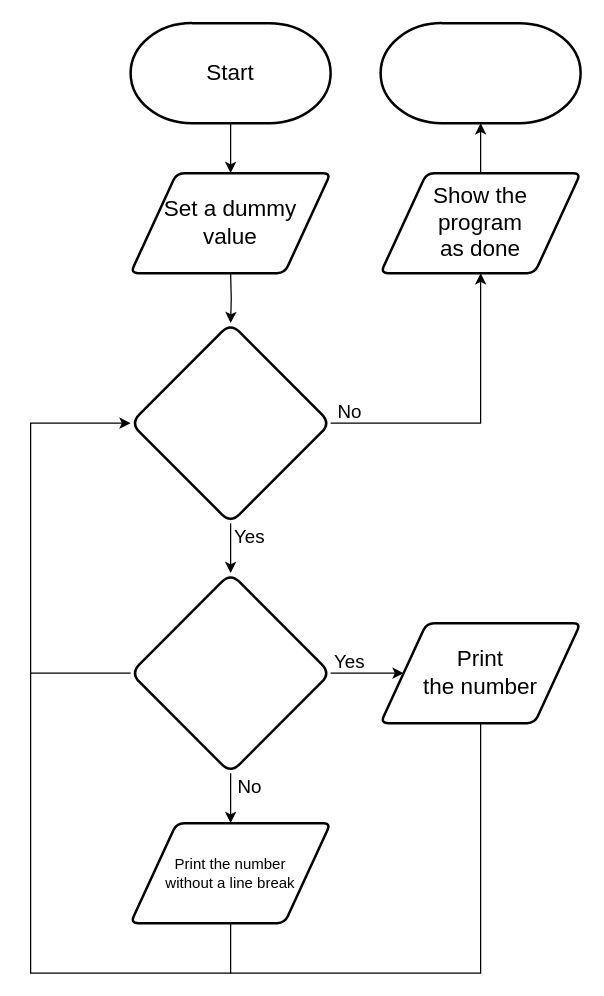
The diagram is 604 pixels wide and 996 high, and some of its shapes have lost their labels. Here are the shapes that lost their labels. From the top down, the centre of each, then its label:
the point at 480,72: Stop
the point at 230,422: for number in range(1000, 2001)
the point at 230,672: if number % 10 == 4 or number % 10 == 9
